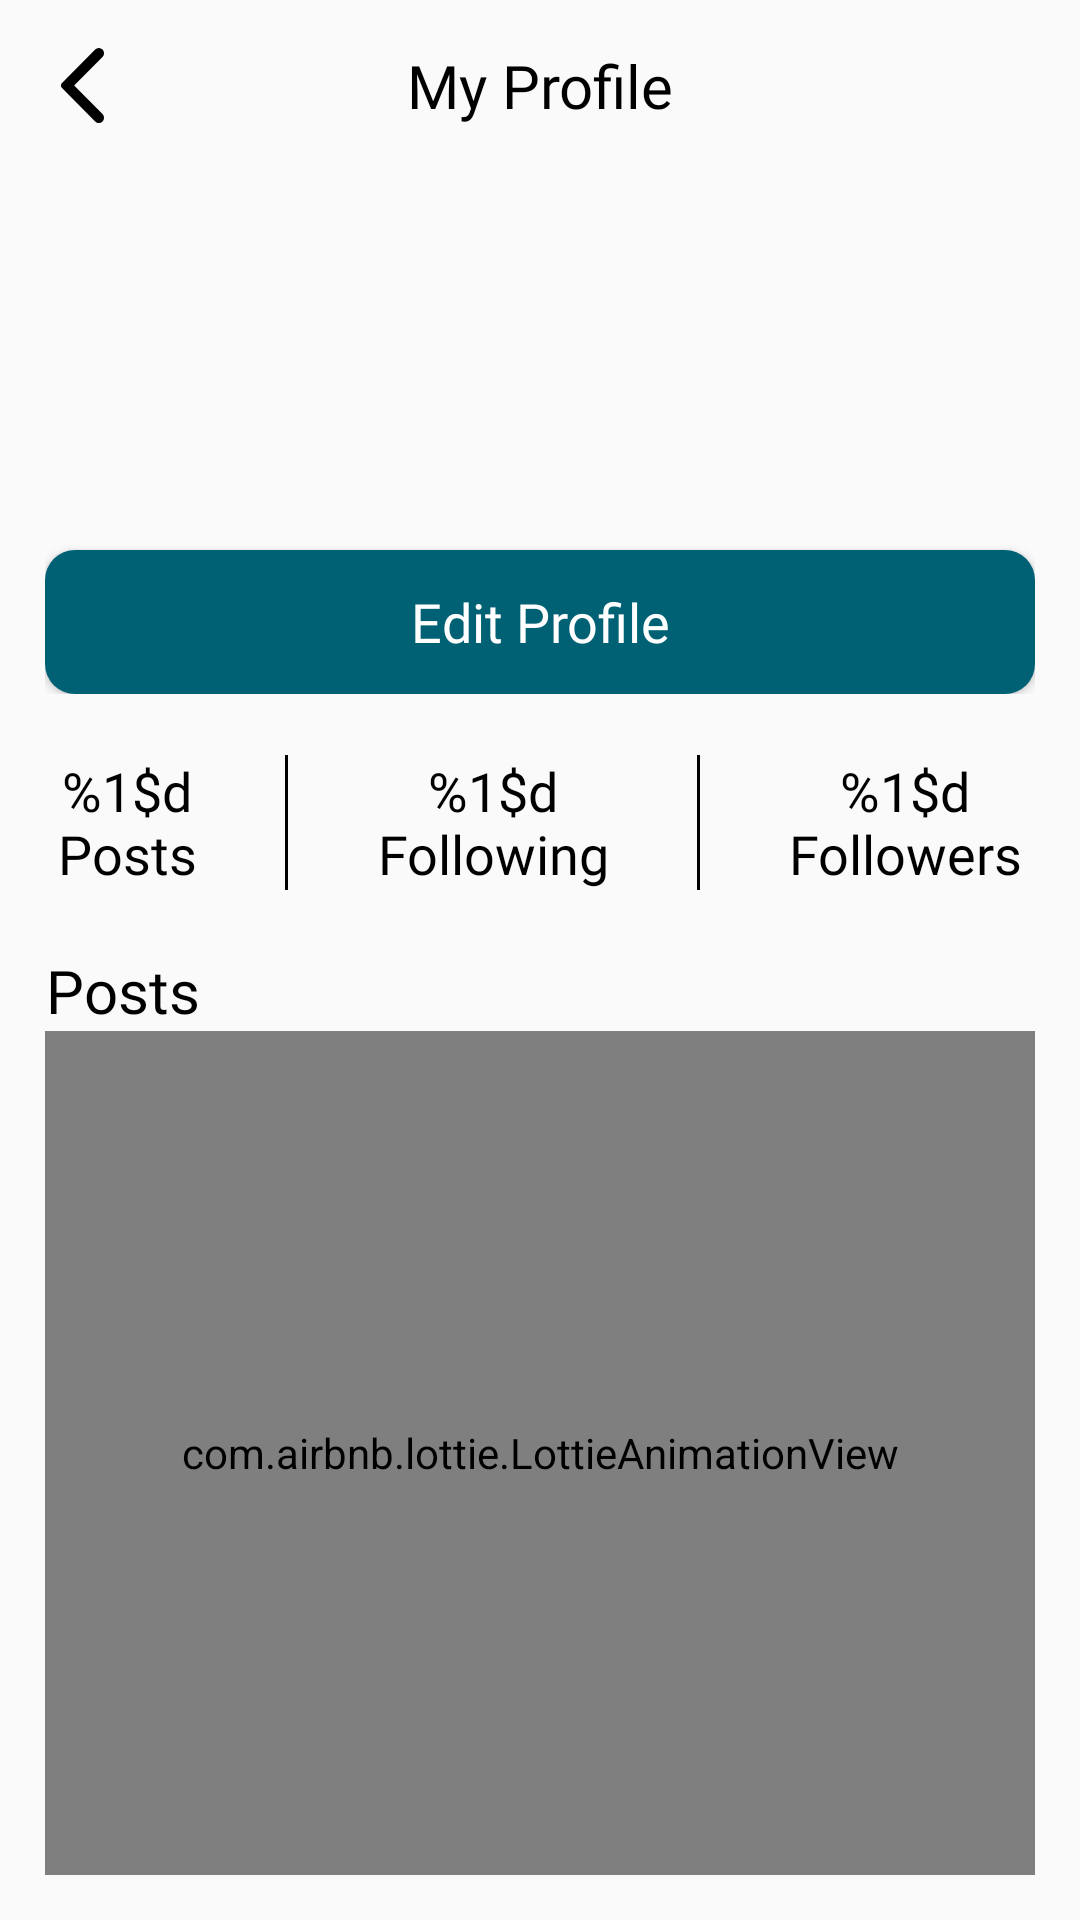

Point at icon controls on the screen. Image size 1080×1920, points as (x=x, y=y).
back: (x=82, y=85)
